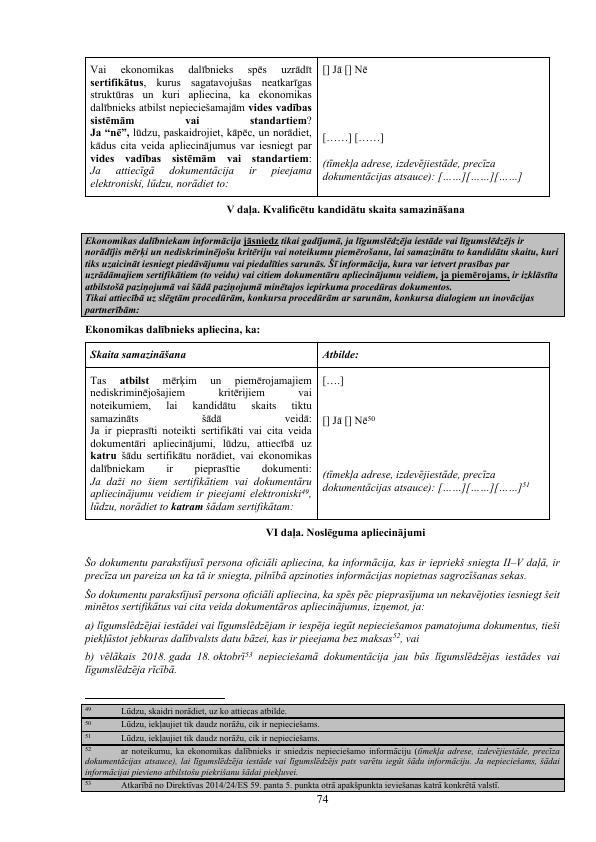table: (83, 339, 557, 522), (83, 53, 556, 200), (79, 701, 565, 793)
text: (82, 554, 565, 679), (80, 234, 565, 314), (222, 200, 469, 220), (80, 320, 263, 335), (263, 525, 428, 540)
